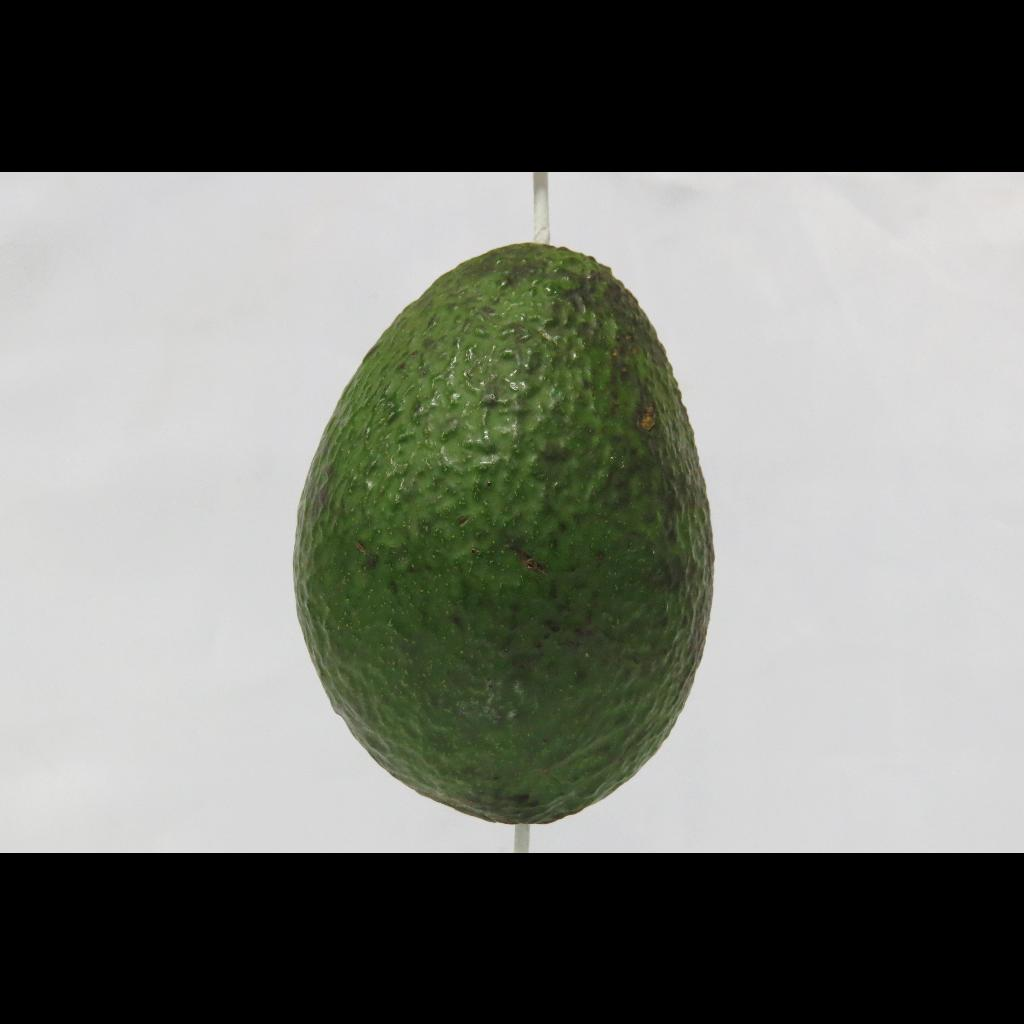fruto_sano: (271, 209, 753, 836)
